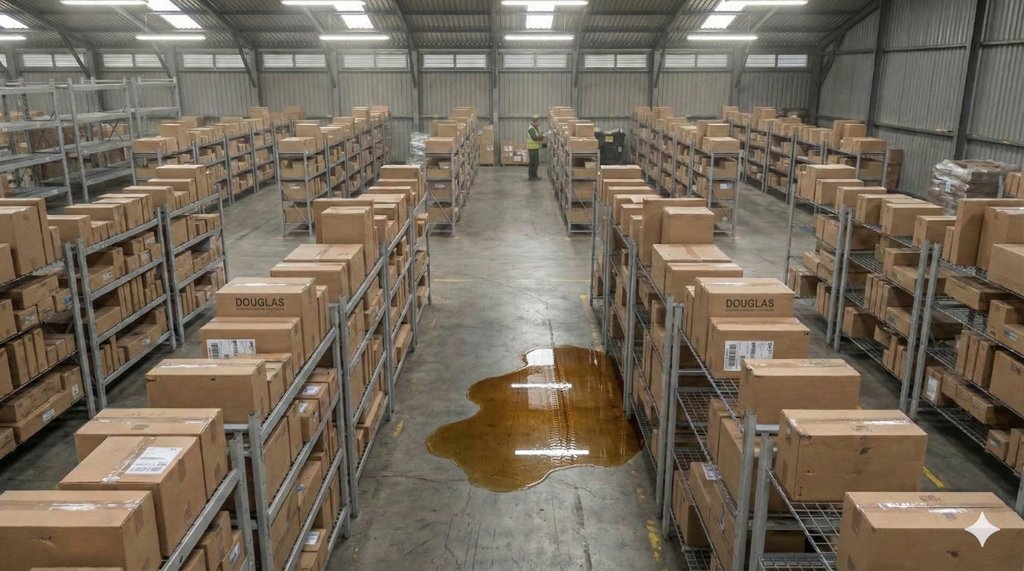empty_shelf: (0, 56, 175, 137), (0, 134, 125, 189), (669, 377, 706, 462), (857, 231, 882, 273), (791, 197, 814, 240)
person: (513, 105, 555, 185)
safety_vest: (522, 120, 542, 152)
spill: (427, 309, 626, 506)
